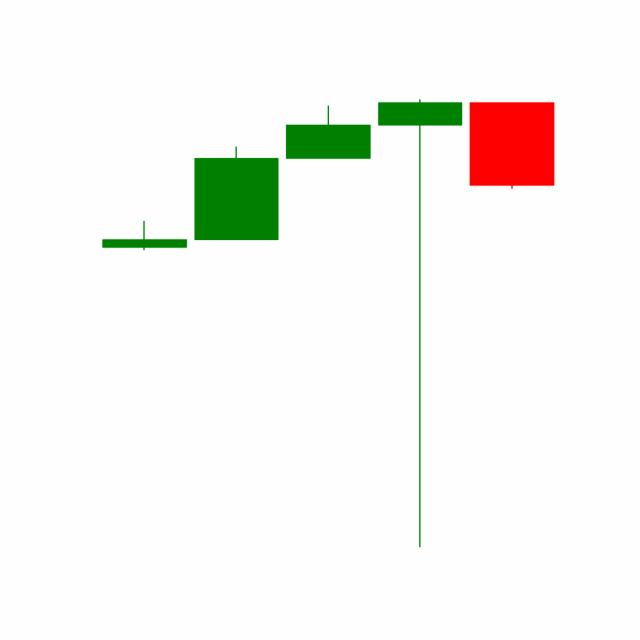Marubozu: (464, 101, 558, 191)
